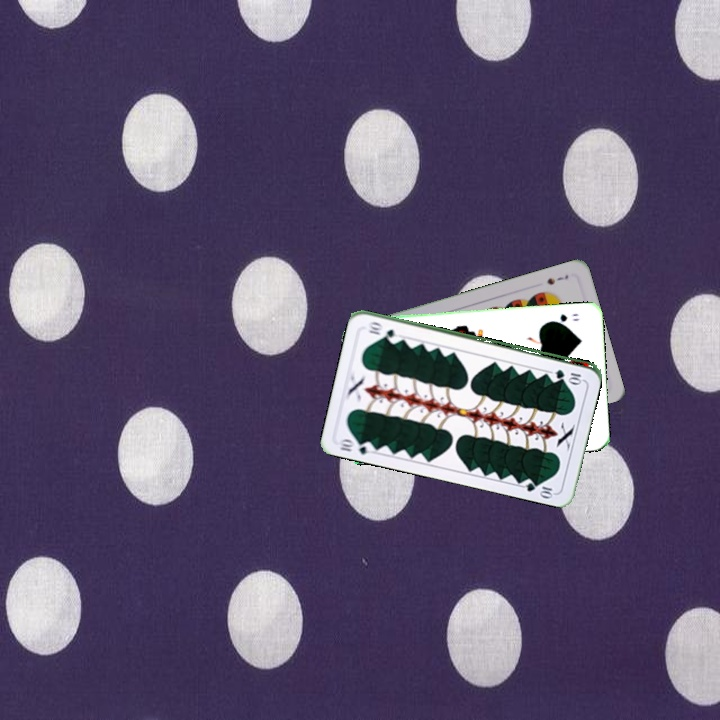G10: (336, 435, 376, 457), (551, 365, 585, 383)
GO: (546, 309, 581, 327)
S7: (543, 271, 571, 287)
